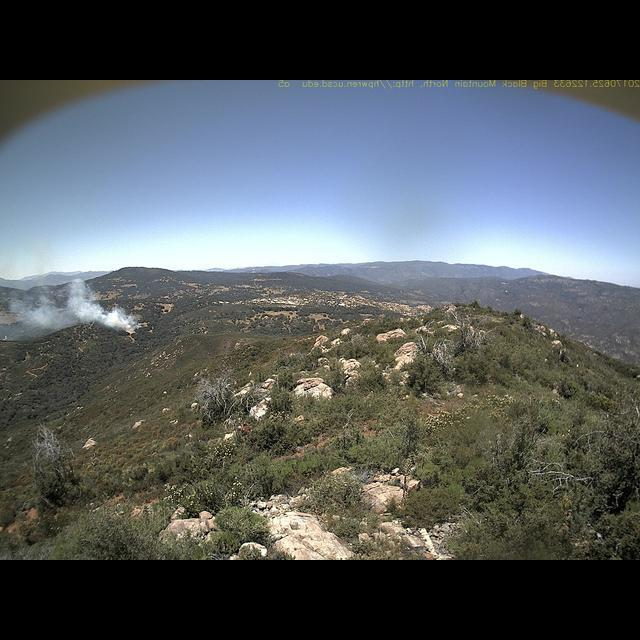Smoke: (3, 270, 144, 337)
